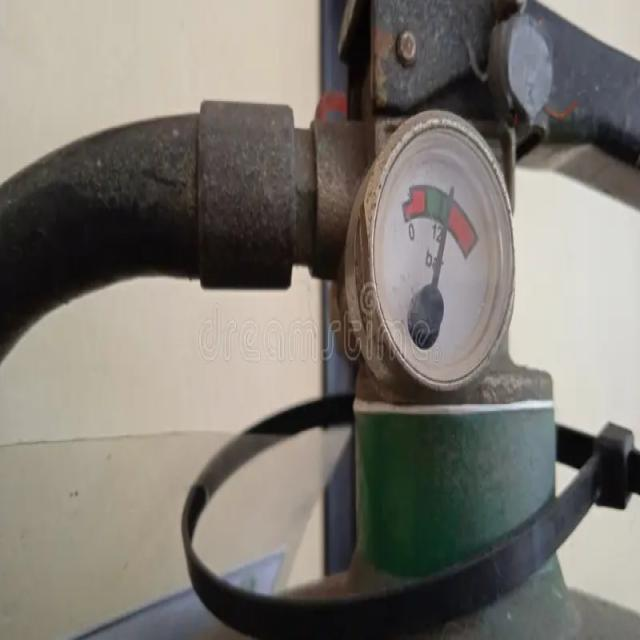pressure gauge: (345, 111, 514, 390)
